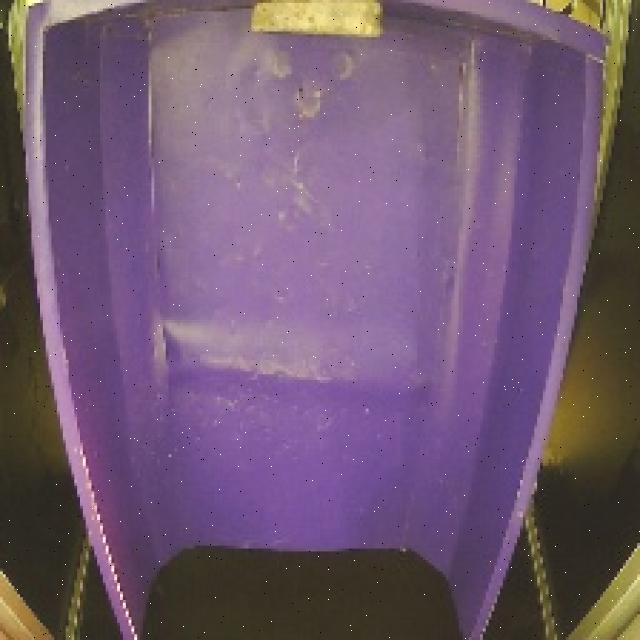china: (240, 0, 400, 63)
